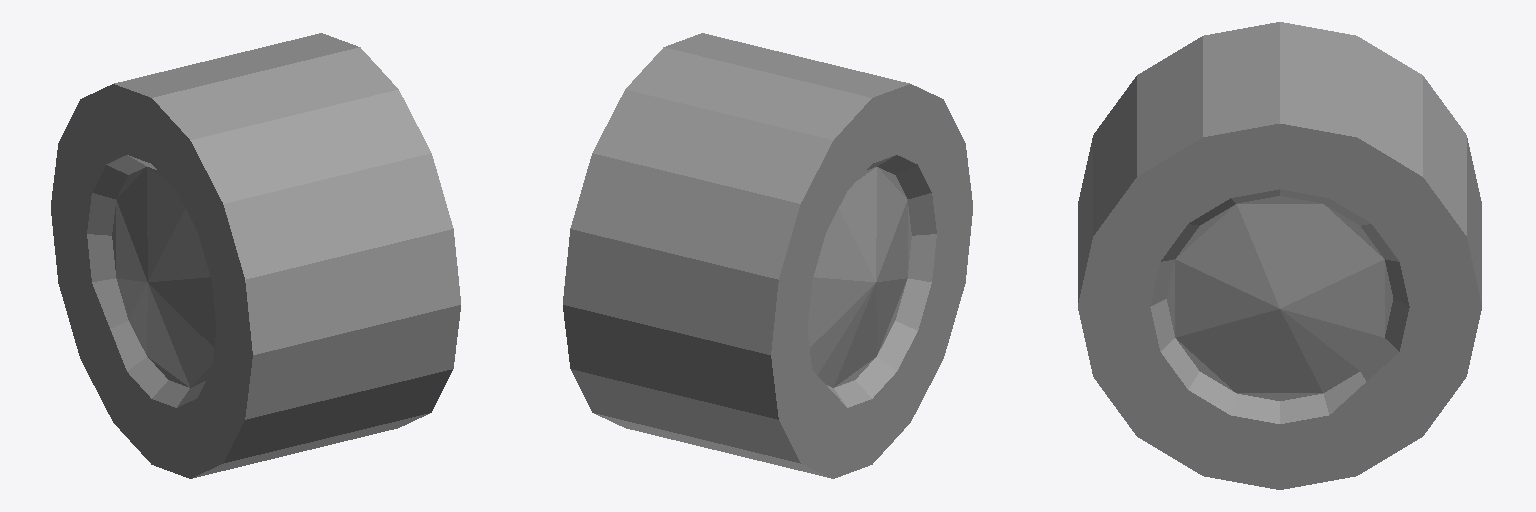
The model's file is Tire_M.obj.
3 renders of one model, left to right at view 1: azimuth 30°, elevation 25°; view 2: azimuth 150°, elevation 25°; view 3: azimuth 270°, elevation 25°, orthographic.
Parts seen in each view (by area): view 1: tire_M_kart_tire_M.001; view 2: tire_M_kart_tire_M.001; view 3: tire_M_kart_tire_M.001.
Boxes of the visible parts, x1=… form: tire_M_kart_tire_M.001: x1=51, y1=33, x2=460, y2=478; tire_M_kart_tire_M.001: x1=563, y1=33, x2=972, y2=478; tire_M_kart_tire_M.001: x1=1078, y1=22, x2=1481, y2=489.
Size of the model in its own units: 0.1927 by 0.312 by 0.312.